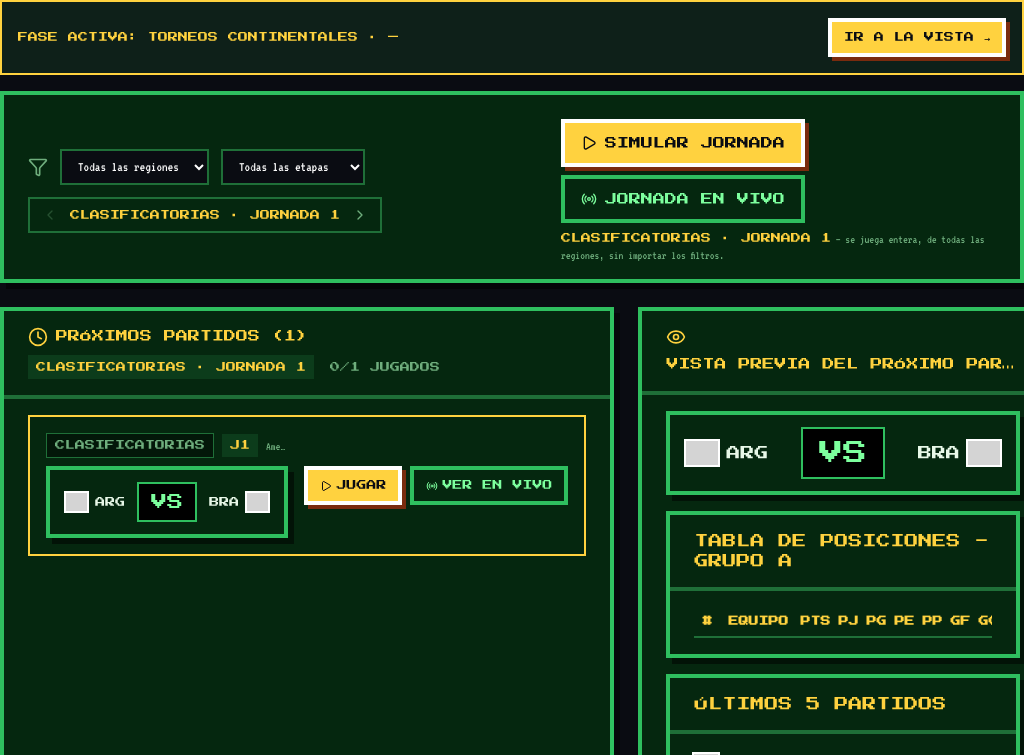
Scenario: MatchCenter — por qué no hay partidos próximos › un filtro que no matchea nada lo dice con sus palabras
This screenshot has width=1024, height=755.
# El único partido es de América: filtrar por Europa no deja nada.
Select "Europe" in the 1st dropdown showing "todas las regiones" at (134, 167), box [60,149,209,185]
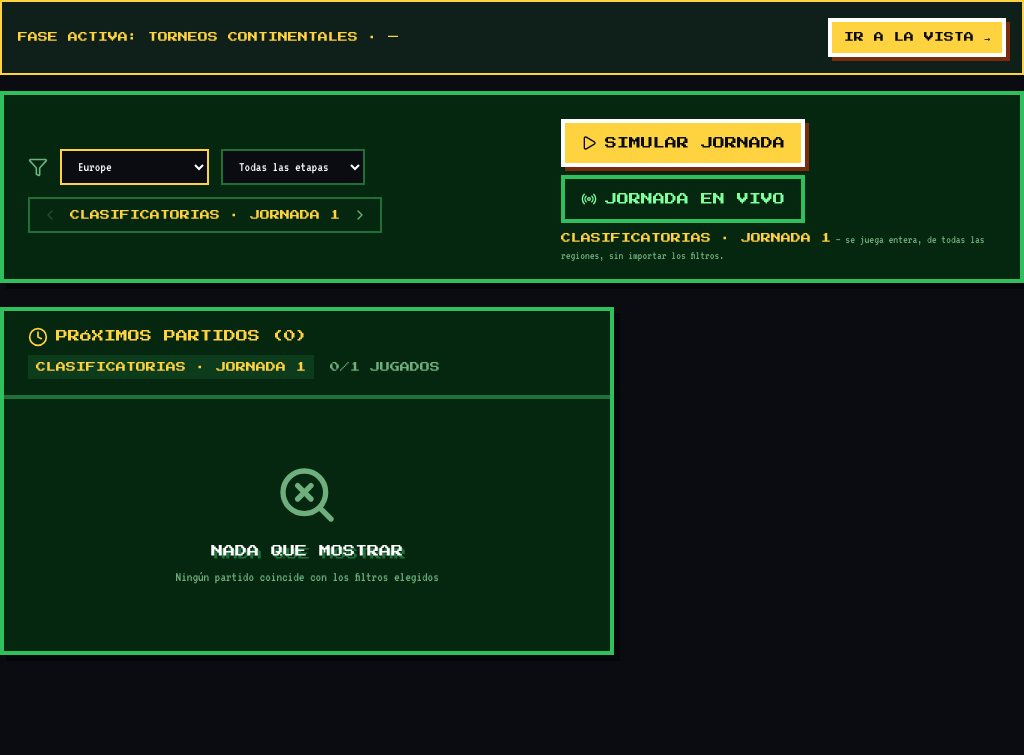
Now the text "Ningún partido coincide con los filtros elegidos" is shown, box [176,570,439,584]
